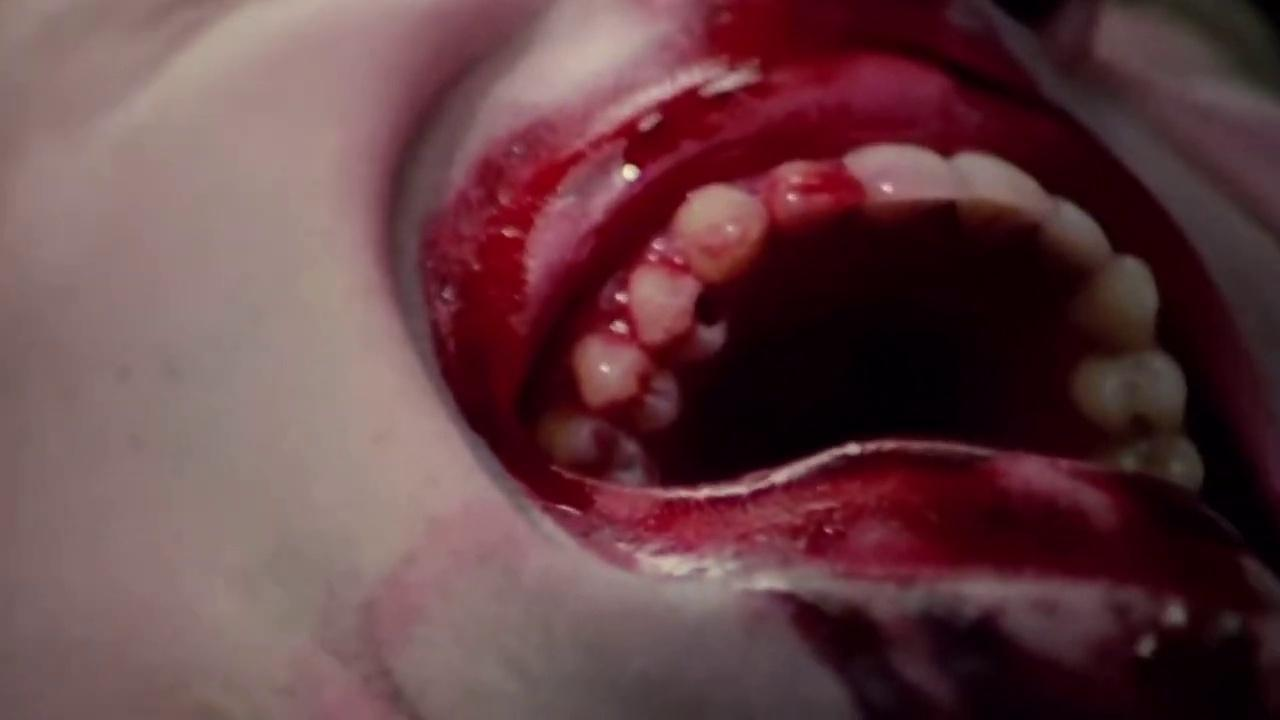Fire: (420, 2, 1280, 716)
